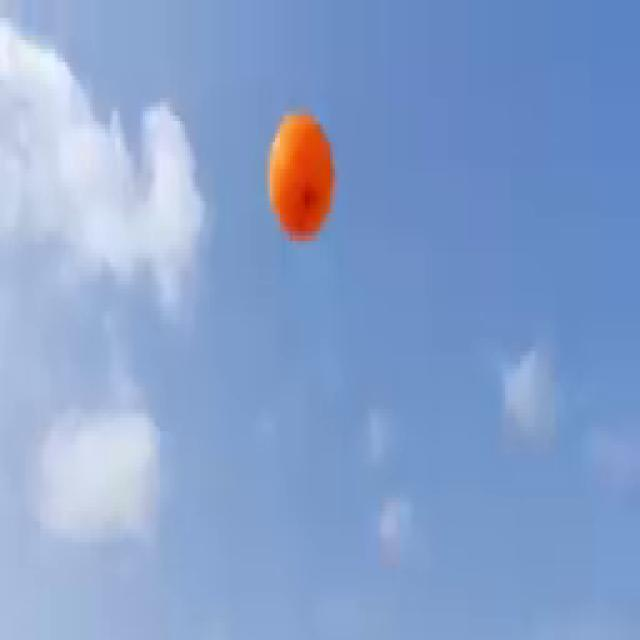red: (266, 110, 336, 242)
